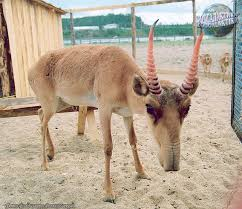saiga: (28, 19, 204, 204)
